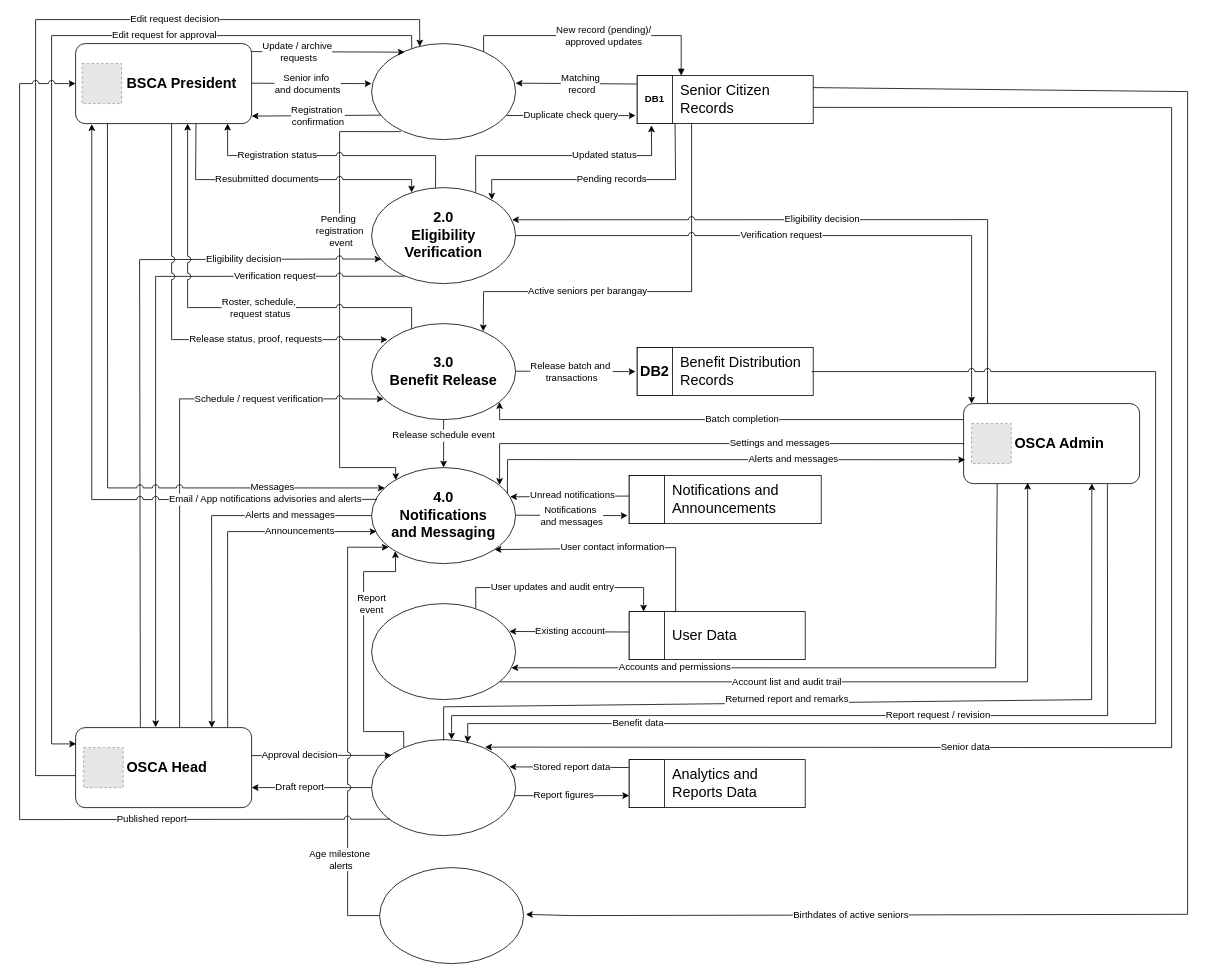
This 1208x978 diagram has some shape labels left out. Grey dashed boxes stand in for pictures. Here are the shapes that lost their labels. From the top down, the centre of each, then its label:
point 443,91: 1.0 Registration
point 646,499: DB5
point 443,651: 5.0 User Management
point 646,635: DB3
point 443,787: 6.0 Reports and Analytics
point 646,783: DB4
point 451,915: 7.0 Age Threshold Detection
